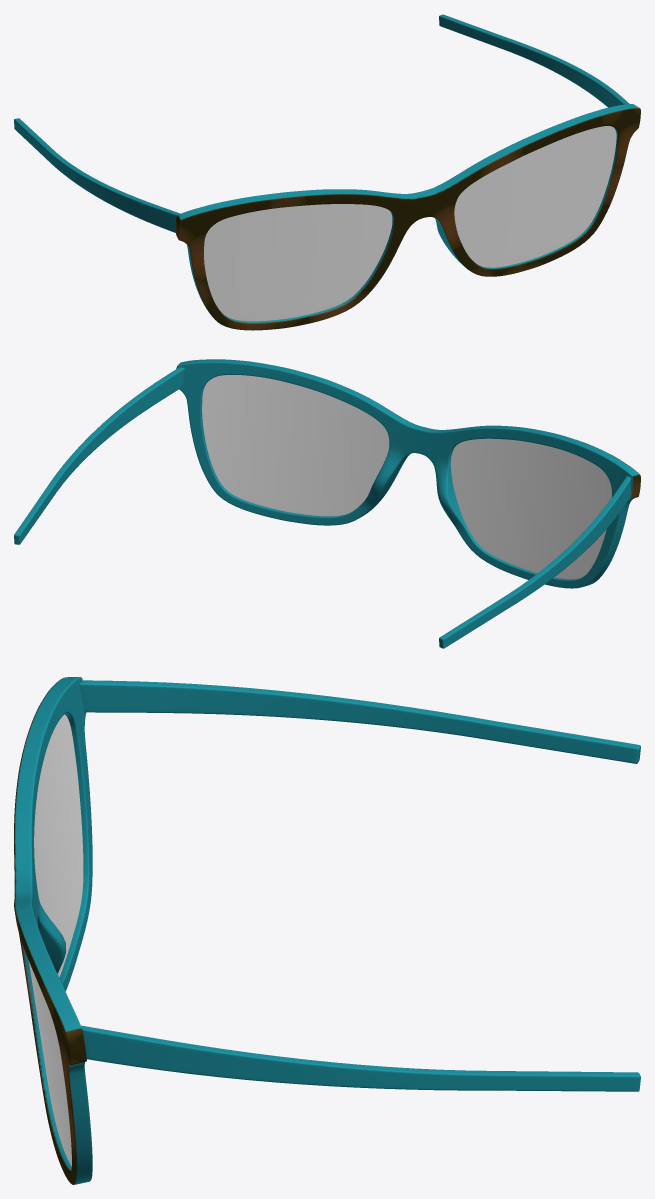
The model's file is Rb_7108L_app.gltf.
3 views of the same model, one above another, from view 1: azimuth 30°, elevation 25°; view 2: azimuth 150°, elevation 25°; view 3: azimuth 270°, elevation 25° (orthographic). The views are drawn at different scales.
Parts seen in each view (by area): view 1: Lentes, Det frente, Armacao; view 2: Lentes, Armacao; view 3: Armacao, Lentes, Det frente.
Part boxes in pixels (x1,y1,x2,y2): Lentes: [204, 126, 616, 321]; Det frente: [175, 108, 640, 330]; Armacao: [14, 14, 638, 322]; Lentes: [202, 375, 611, 579]; Armacao: [14, 359, 639, 648]; Armacao: [15, 677, 640, 1184]; Lentes: [29, 714, 83, 1166]; Det frente: [14, 679, 86, 1184].
Bounding box in the file's own units: 0.1603 × 0.0454 × 0.1147.
3 materials, 3 textured.
